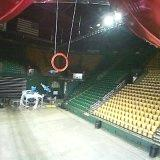Orange_Circle_GShape: (50, 53, 67, 70)
